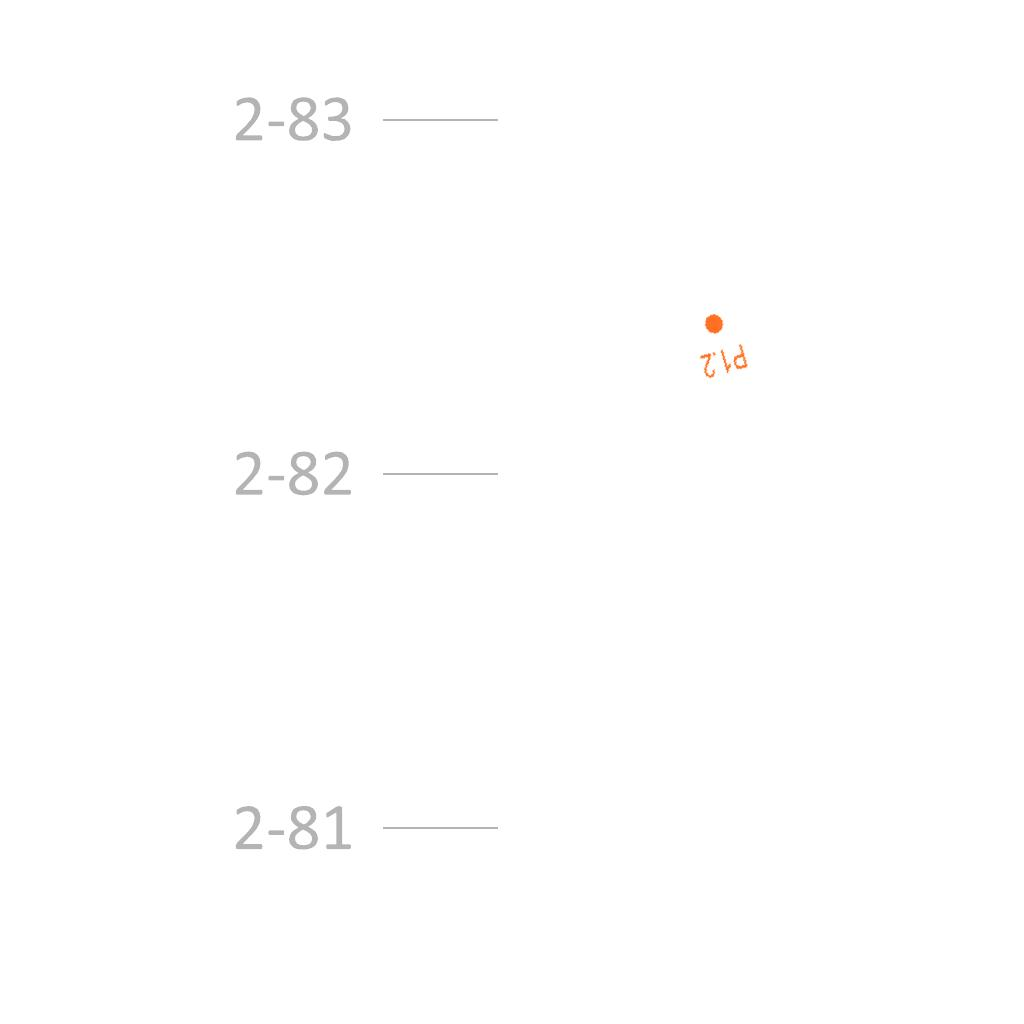Downlight_LED_Einbauleuchten_Flur: (688, 306, 750, 382)
